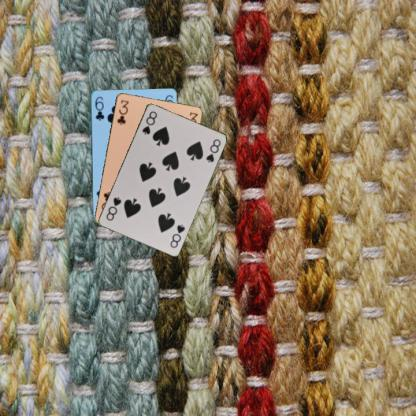3c: (114, 97, 130, 126)
6c: (93, 94, 105, 122)
8s: (140, 108, 158, 136), (168, 221, 186, 249)
